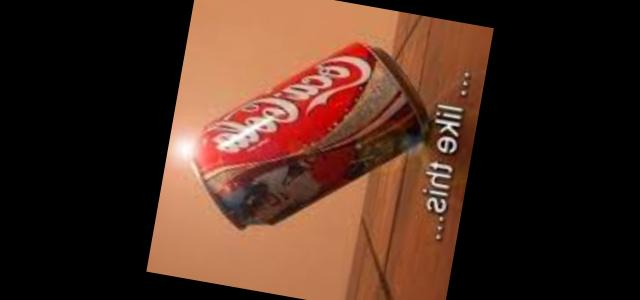metal: (191, 40, 426, 224)
